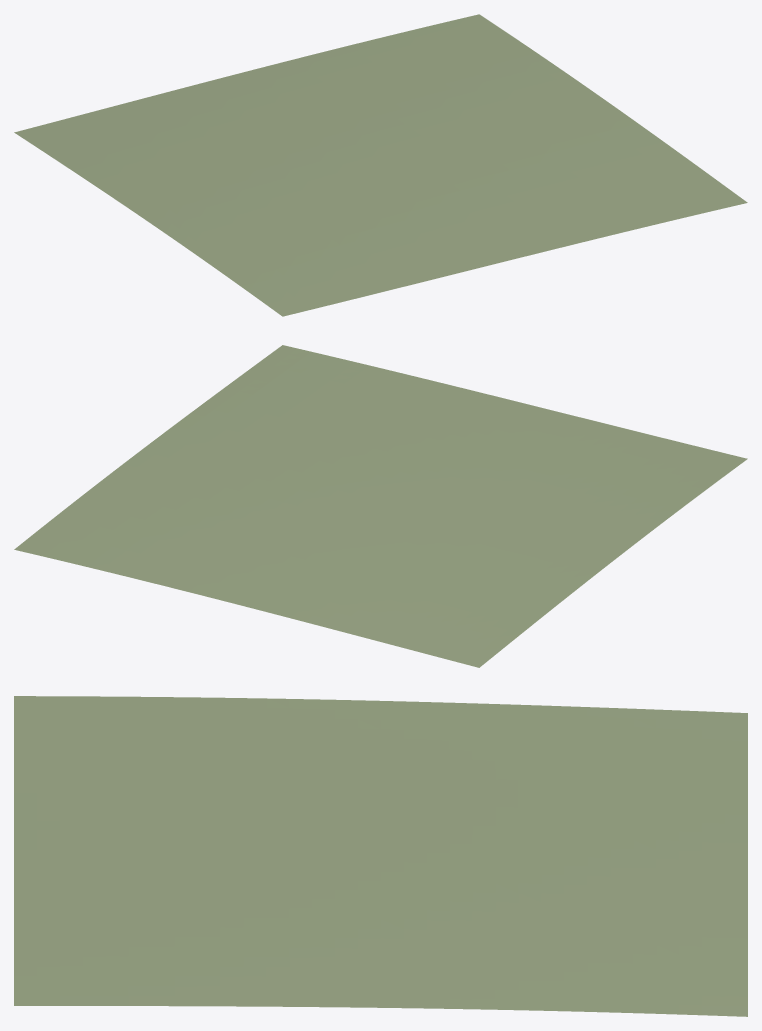
The model's file is expanse-30-1.glb.
3 renders of one model, top to bottom at view 1: azimuth 30°, elevation 25°; view 2: azimuth 150°, elevation 25°; view 3: azimuth 270°, elevation 25°, orthographic. The views are drawn at different scales.
Visible parts, largest first — view 1: expanse-30-1; view 2: expanse-30-1; view 3: expanse-30-1.
Boxes of the visible parts, bbox=[...] form: expanse-30-1: bbox=[14, 14, 747, 316]; expanse-30-1: bbox=[14, 345, 747, 667]; expanse-30-1: bbox=[14, 696, 747, 1016].
Size of the model in its own units: 256 by 7.2 by 256.
